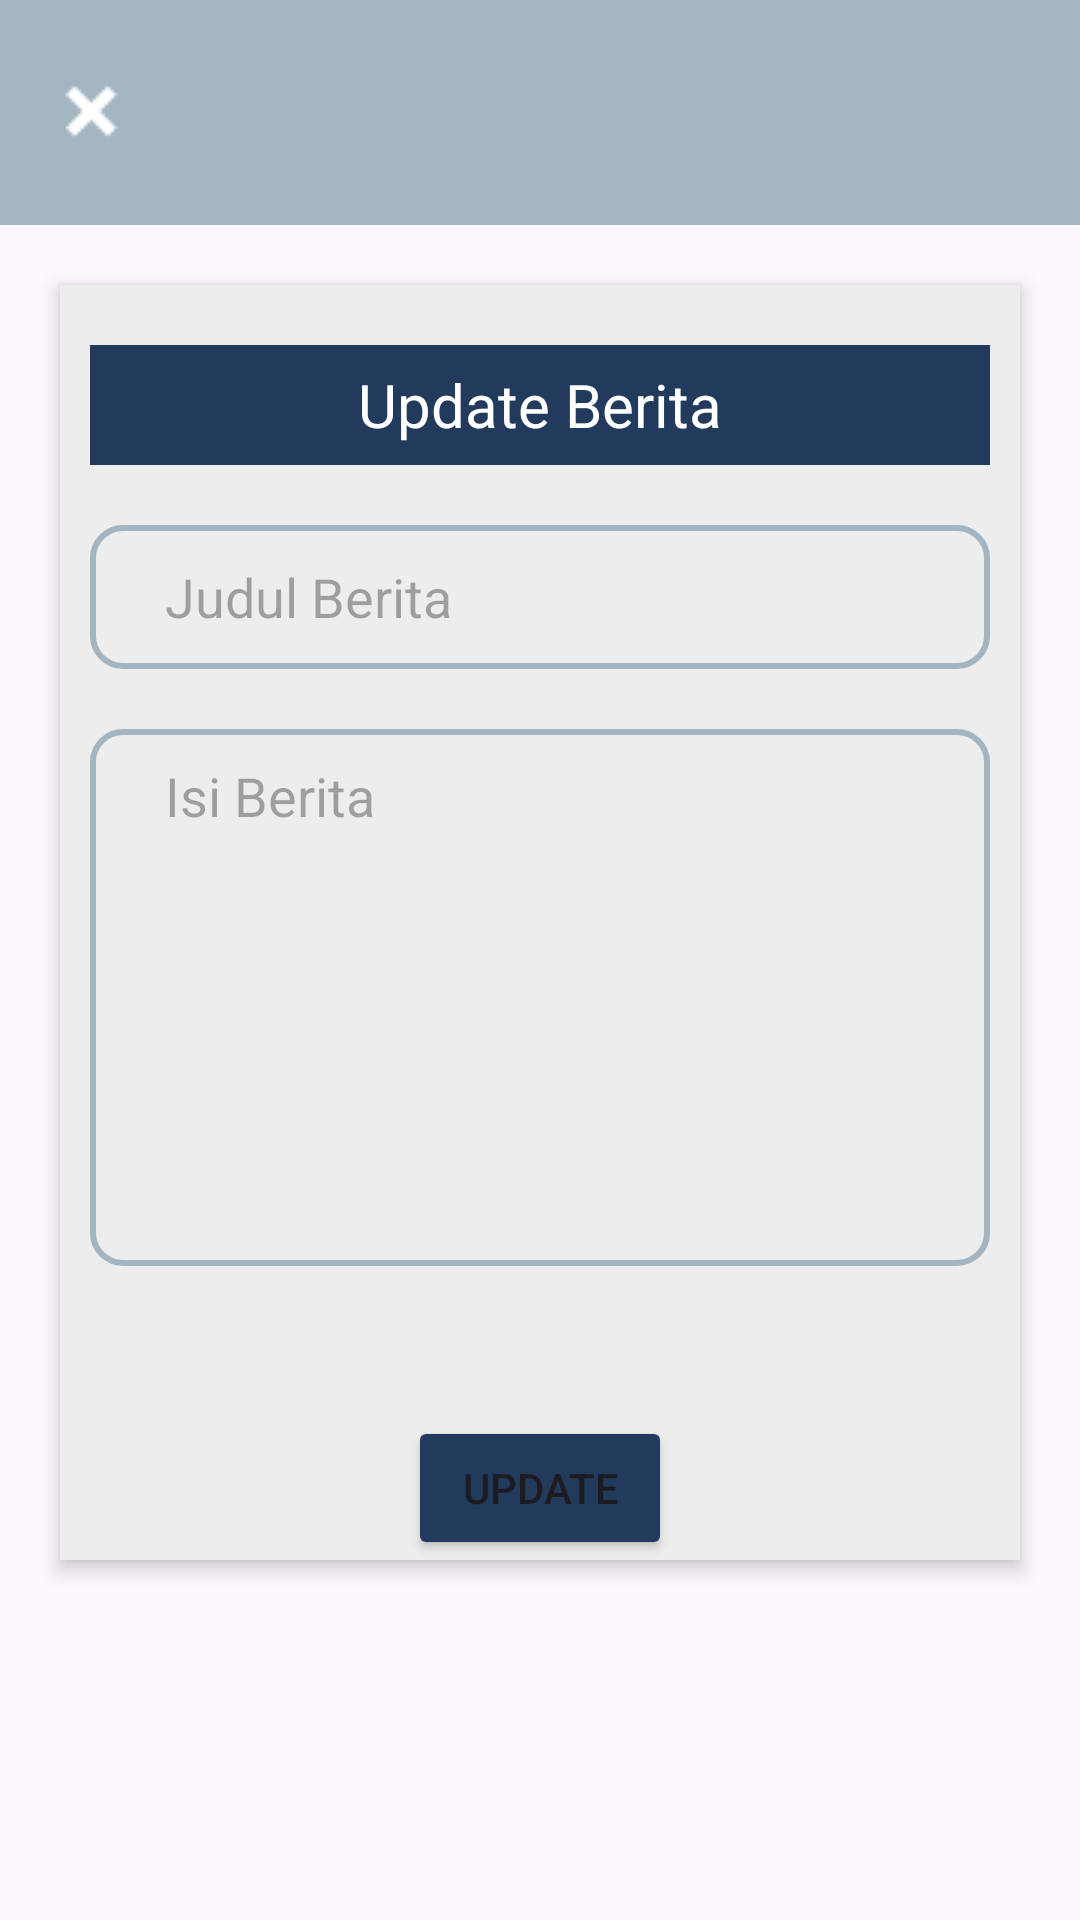

Where icons sit on this 1080 x 1920 app screen, as (x1, y1, x2, y2):
close: (66, 86, 117, 136)
